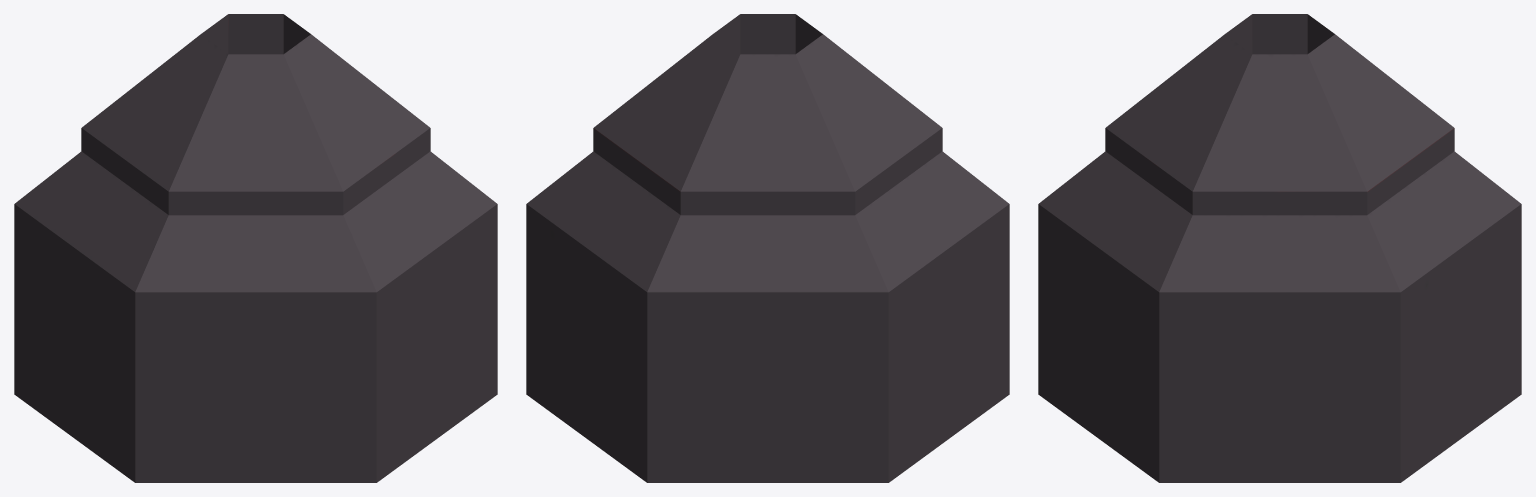
Rendered from BigThruster.obj.
3 views of the same model, side by side, from view 1: azimuth 30°, elevation 25°; view 2: azimuth 150°, elevation 25°; view 3: azimuth 270°, elevation 25° (orthographic).
Visible parts, largest first — view 1: Cylinder.002_Cylinder.005; view 2: Cylinder.002_Cylinder.005; view 3: Cylinder.002_Cylinder.005.
Boxes of the visible parts, x1=… form: Cylinder.002_Cylinder.005: x1=14, y1=14, x2=497, y2=482; Cylinder.002_Cylinder.005: x1=526, y1=14, x2=1009, y2=482; Cylinder.002_Cylinder.005: x1=1038, y1=14, x2=1521, y2=482.
Size of the model in its own units: 0.1745 by 0.1658 by 0.2015.
